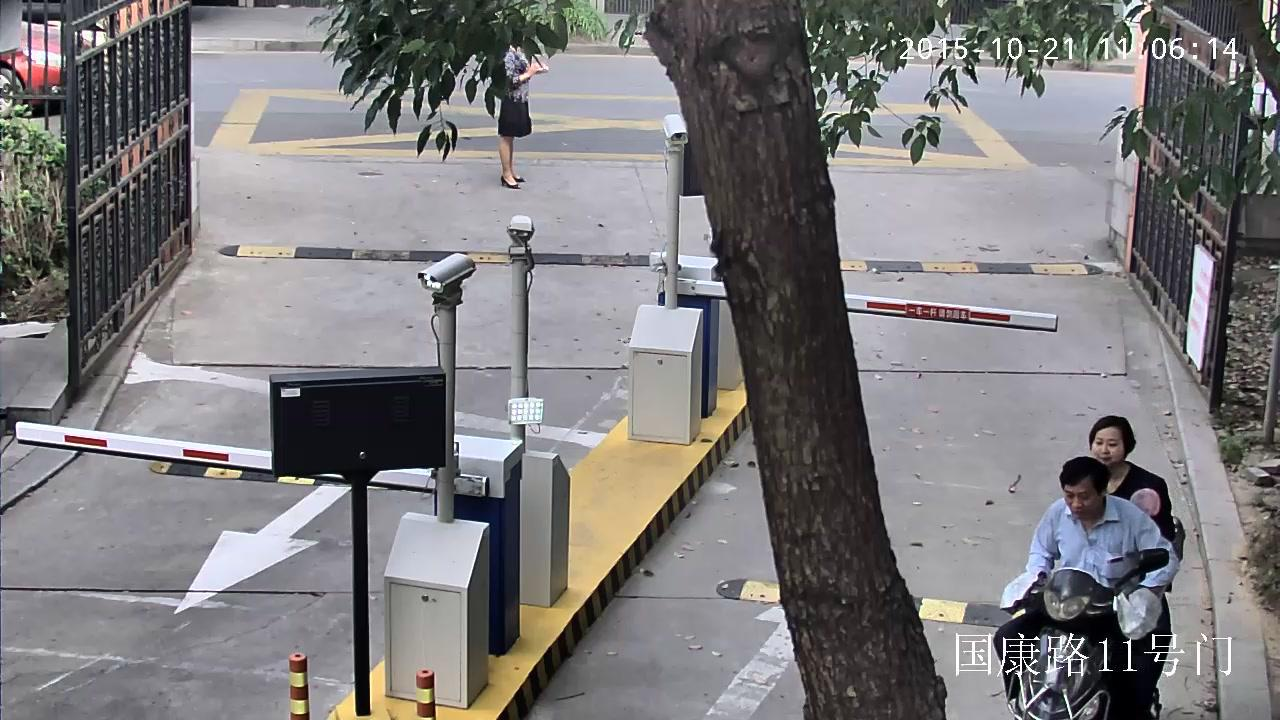face: (1063, 473, 1099, 518), (1093, 424, 1124, 464)
